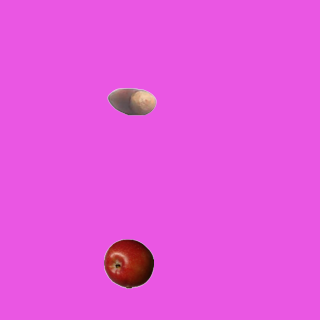Apple Braeburn: (103, 238, 153, 288)
Hazelnut: (106, 76, 156, 126)
